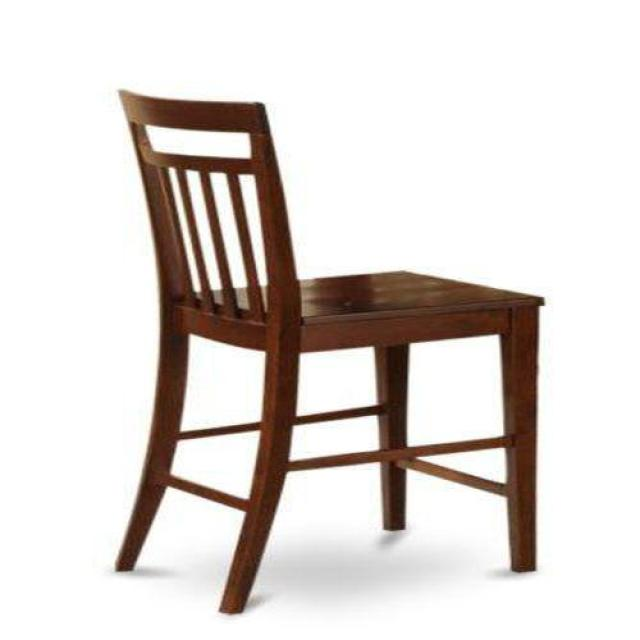chair: (116, 95, 544, 616)
